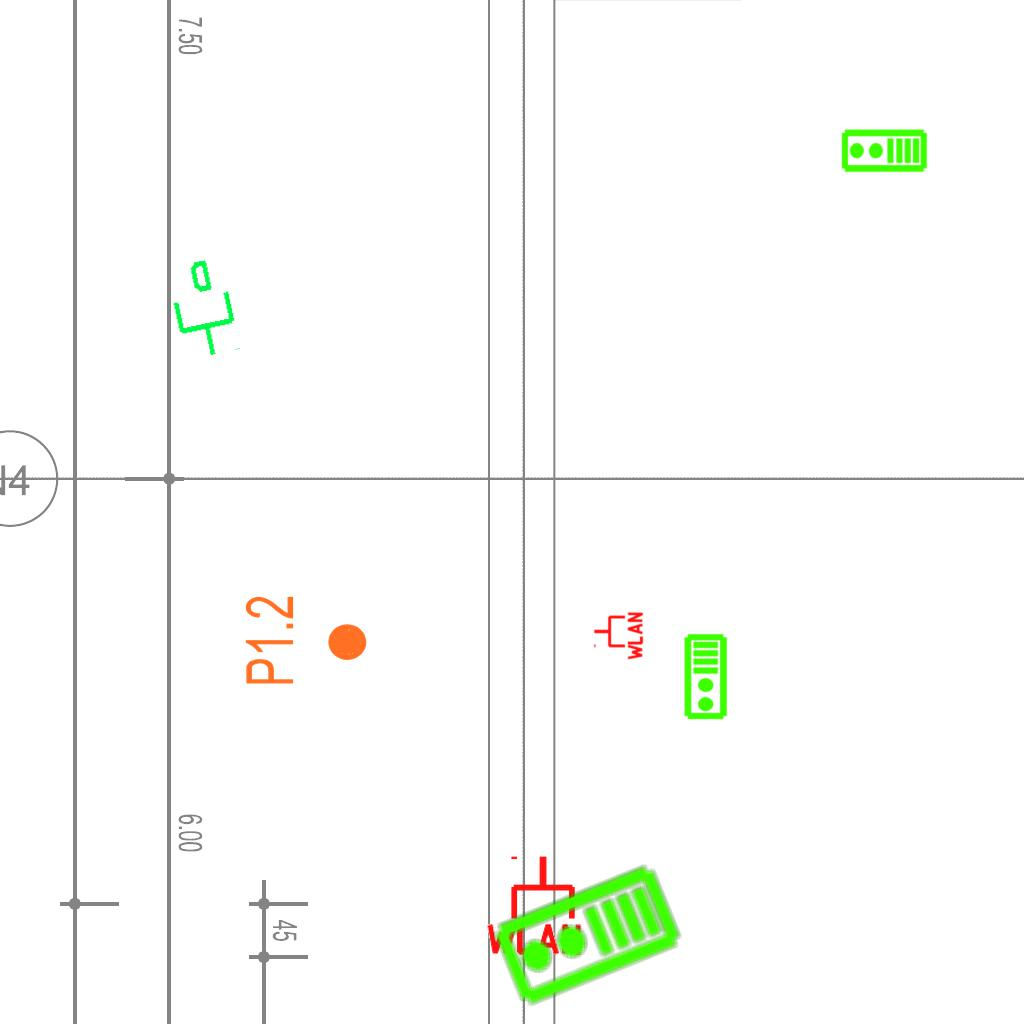Datenanschluss_einfach: (157, 252, 246, 366)
Downlight_LED_Einbauleuchten_Flur: (242, 594, 370, 687)
Gegensprechanlage_mit_Video: (488, 859, 687, 1015), (683, 633, 730, 721), (840, 128, 928, 175)
WLAN: (482, 852, 586, 957), (592, 610, 644, 662)
